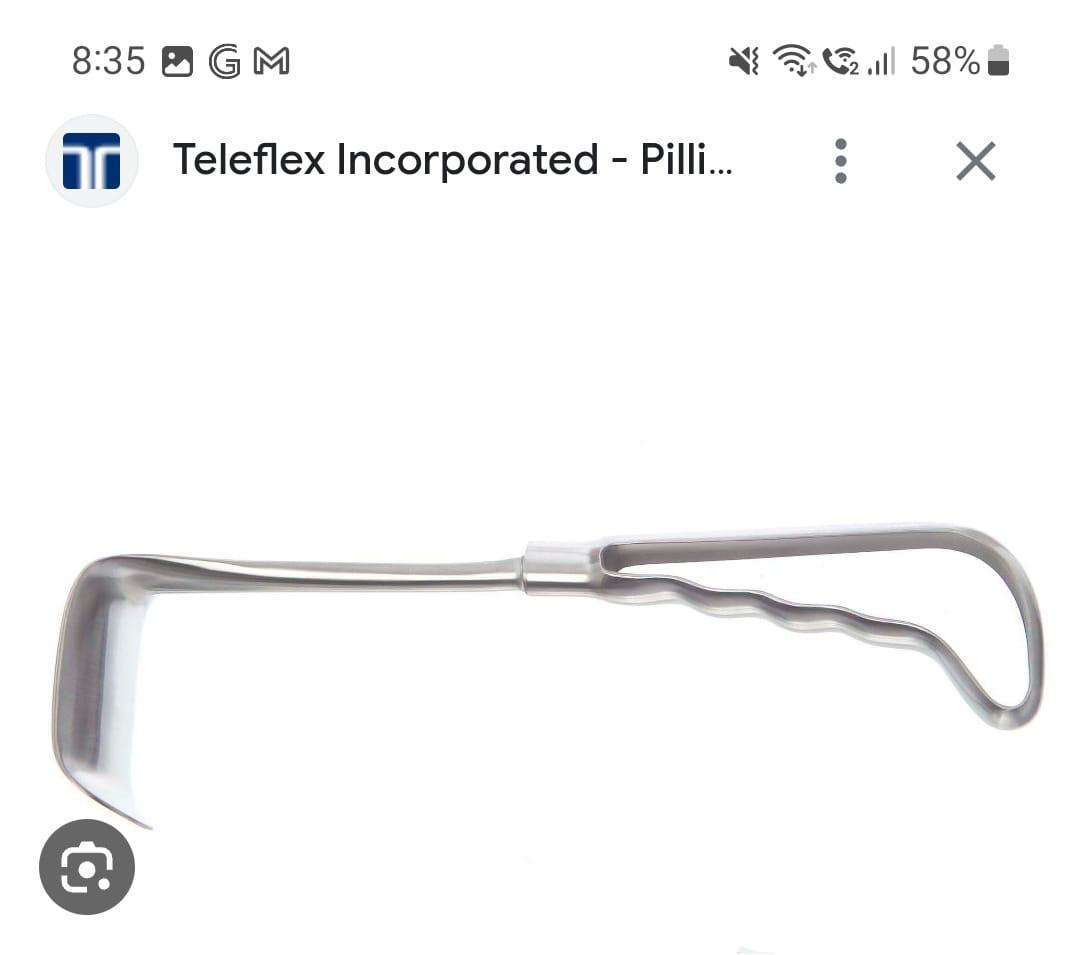Kelly Retractor: (47, 504, 1046, 831)
